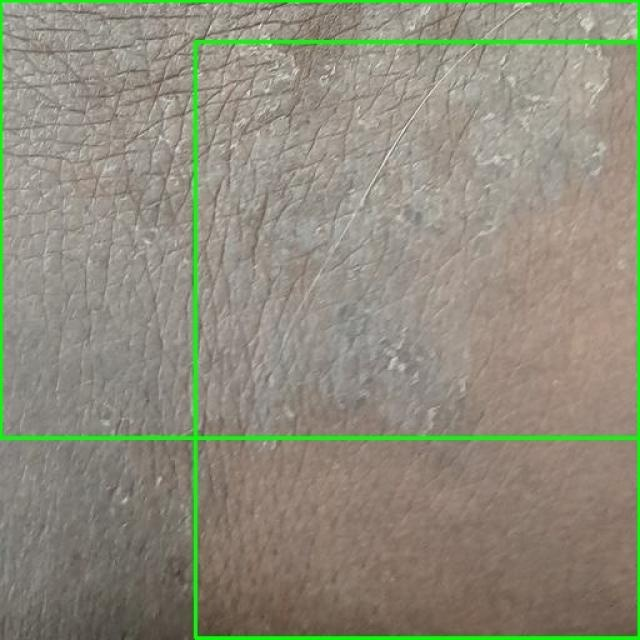Eczema: (0, 0, 639, 438), (195, 41, 639, 639)
